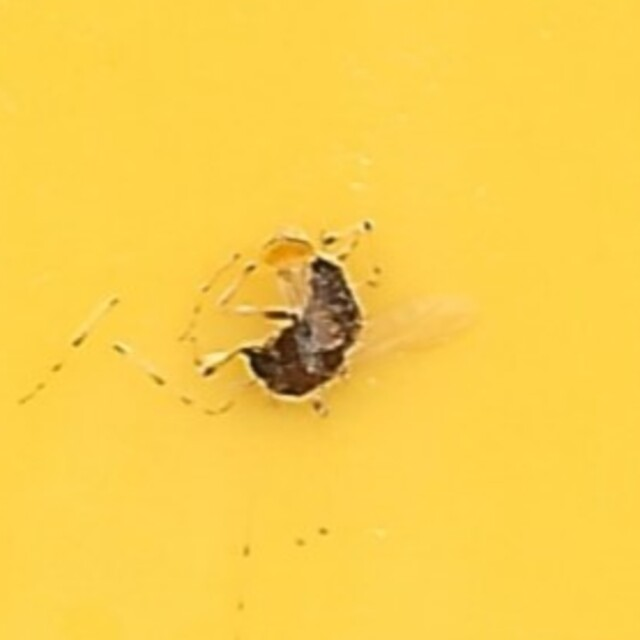Nematocera: (230, 215, 410, 425)
